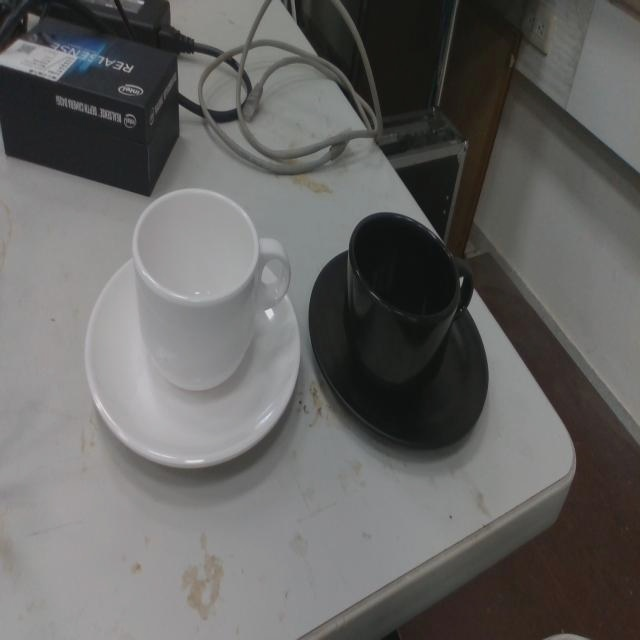black: (308, 208, 492, 461)
white: (82, 182, 304, 479)
